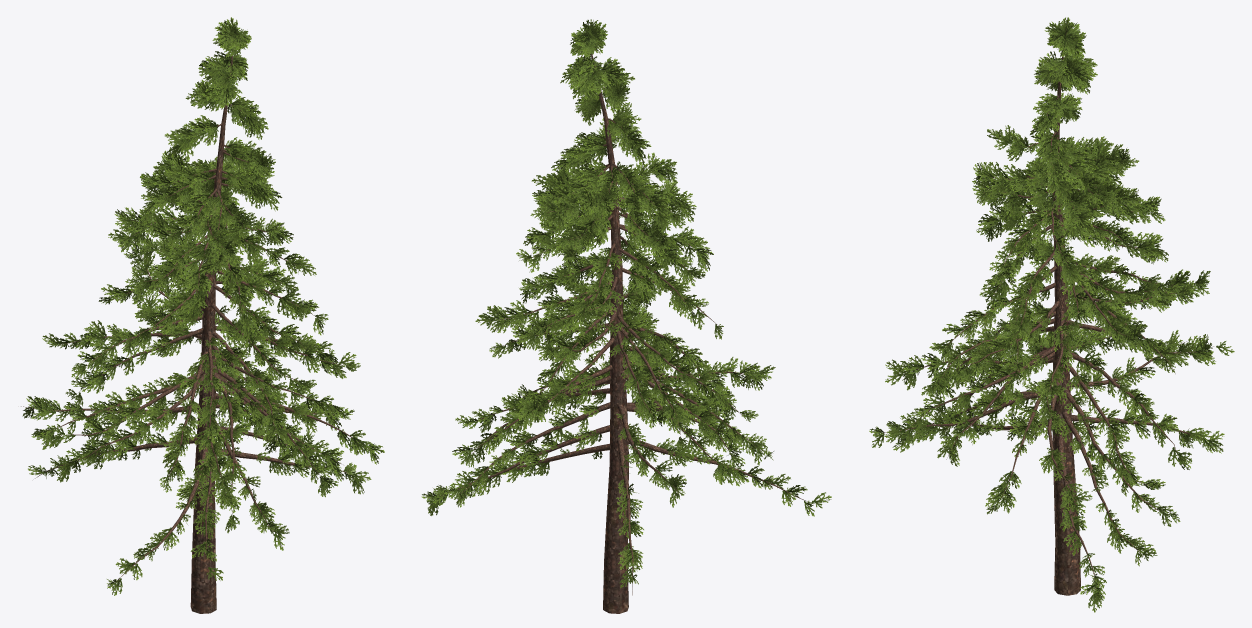
The model's file is pine.glb.
3 renders of one model, left to right at view 1: azimuth 30°, elevation 25°; view 2: azimuth 150°, elevation 25°; view 3: azimuth 270°, elevation 25°, orthographic.
Bounding box in the file's own units: 30.94 × 50.44 × 29.13.
Materials: 2 (2 with a texture image).
